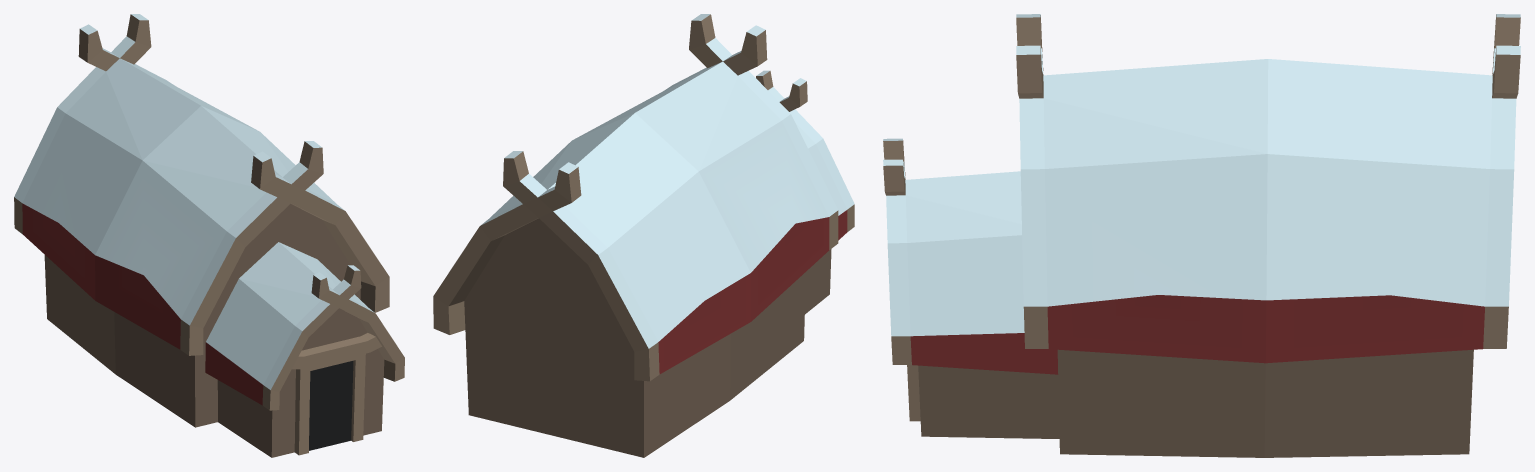
File: SM_Bld_Viking_House_02_Snow.fbx
3 renders of one model, left to right at view 1: azimuth 30°, elevation 25°; view 2: azimuth 150°, elevation 25°; view 3: azimuth 270°, elevation 25°, orthographic. The views are drawn at different scales.
Parts seen in each view (by area): view 1: SM_Bld_Viking_House_02_Snow; view 2: SM_Bld_Viking_House_02_Snow; view 3: SM_Bld_Viking_House_02_Snow.
Part boxes in pixels (<box>): SM_Bld_Viking_House_02_Snow: <box>14,14,404,457</box>; SM_Bld_Viking_House_02_Snow: <box>433,14,854,457</box>; SM_Bld_Viking_House_02_Snow: <box>883,14,1520,457</box>.
Bounding box in the file's own units: 87.35 × 104 × 164.
1 material, 1 textured.
